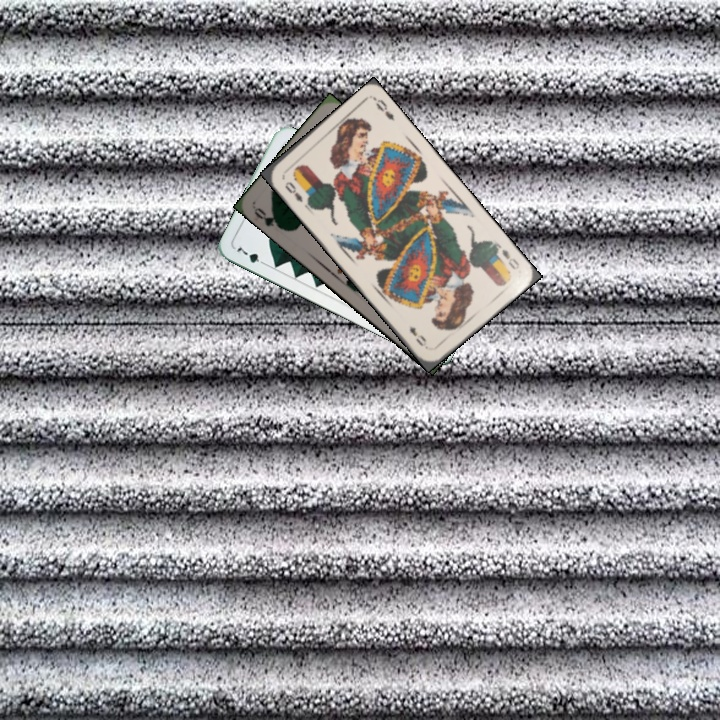EO: (491, 240, 522, 272), (281, 177, 306, 205)
G7: (232, 243, 270, 268)
GO: (250, 204, 287, 232)
